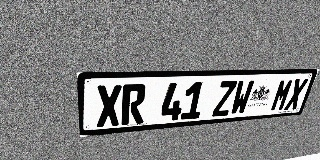1: (180, 82, 206, 120)
4: (160, 82, 186, 122)
M: (269, 79, 295, 112)
R: (121, 84, 146, 125)
W: (229, 80, 255, 115)
X: (96, 85, 122, 127), (284, 78, 309, 110)
Z: (212, 81, 237, 117)
